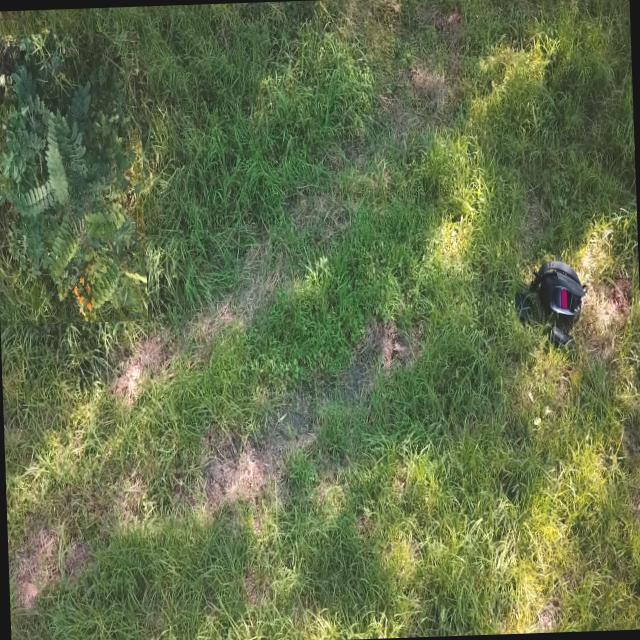Mysore-Thorn-Weed: (0, 30, 148, 325)
